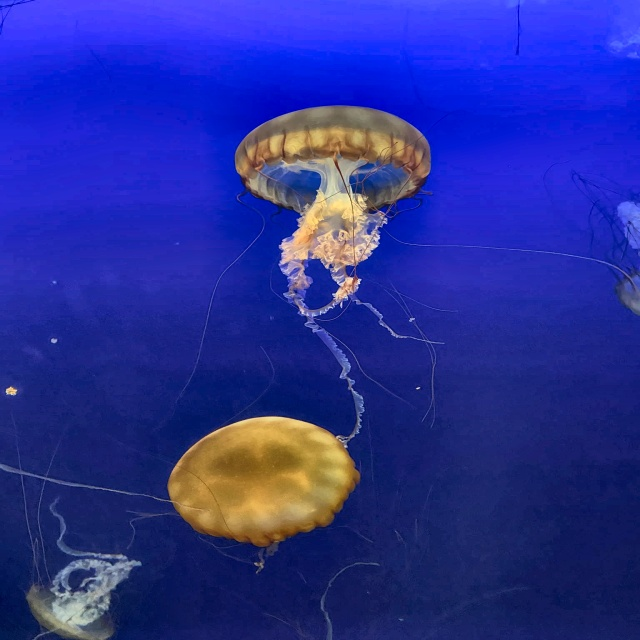jellyfish: (169, 416, 359, 546), (235, 105, 430, 212), (28, 584, 116, 639), (615, 268, 639, 319)
